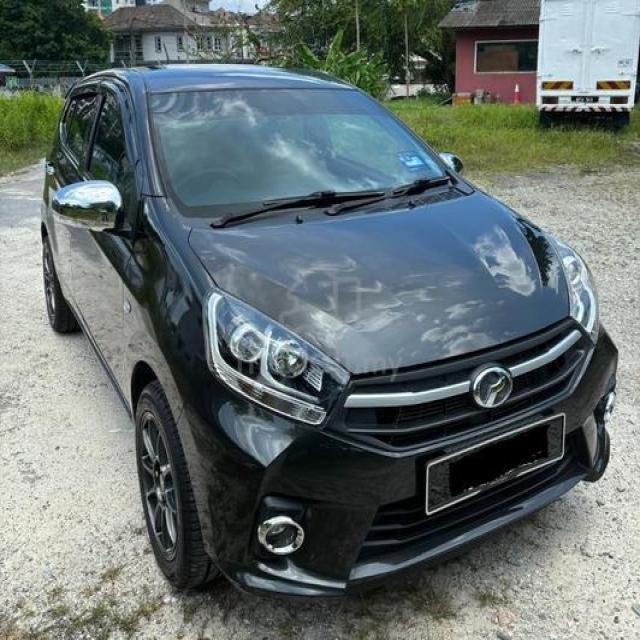PeroduaAxia: (38, 60, 619, 600)
